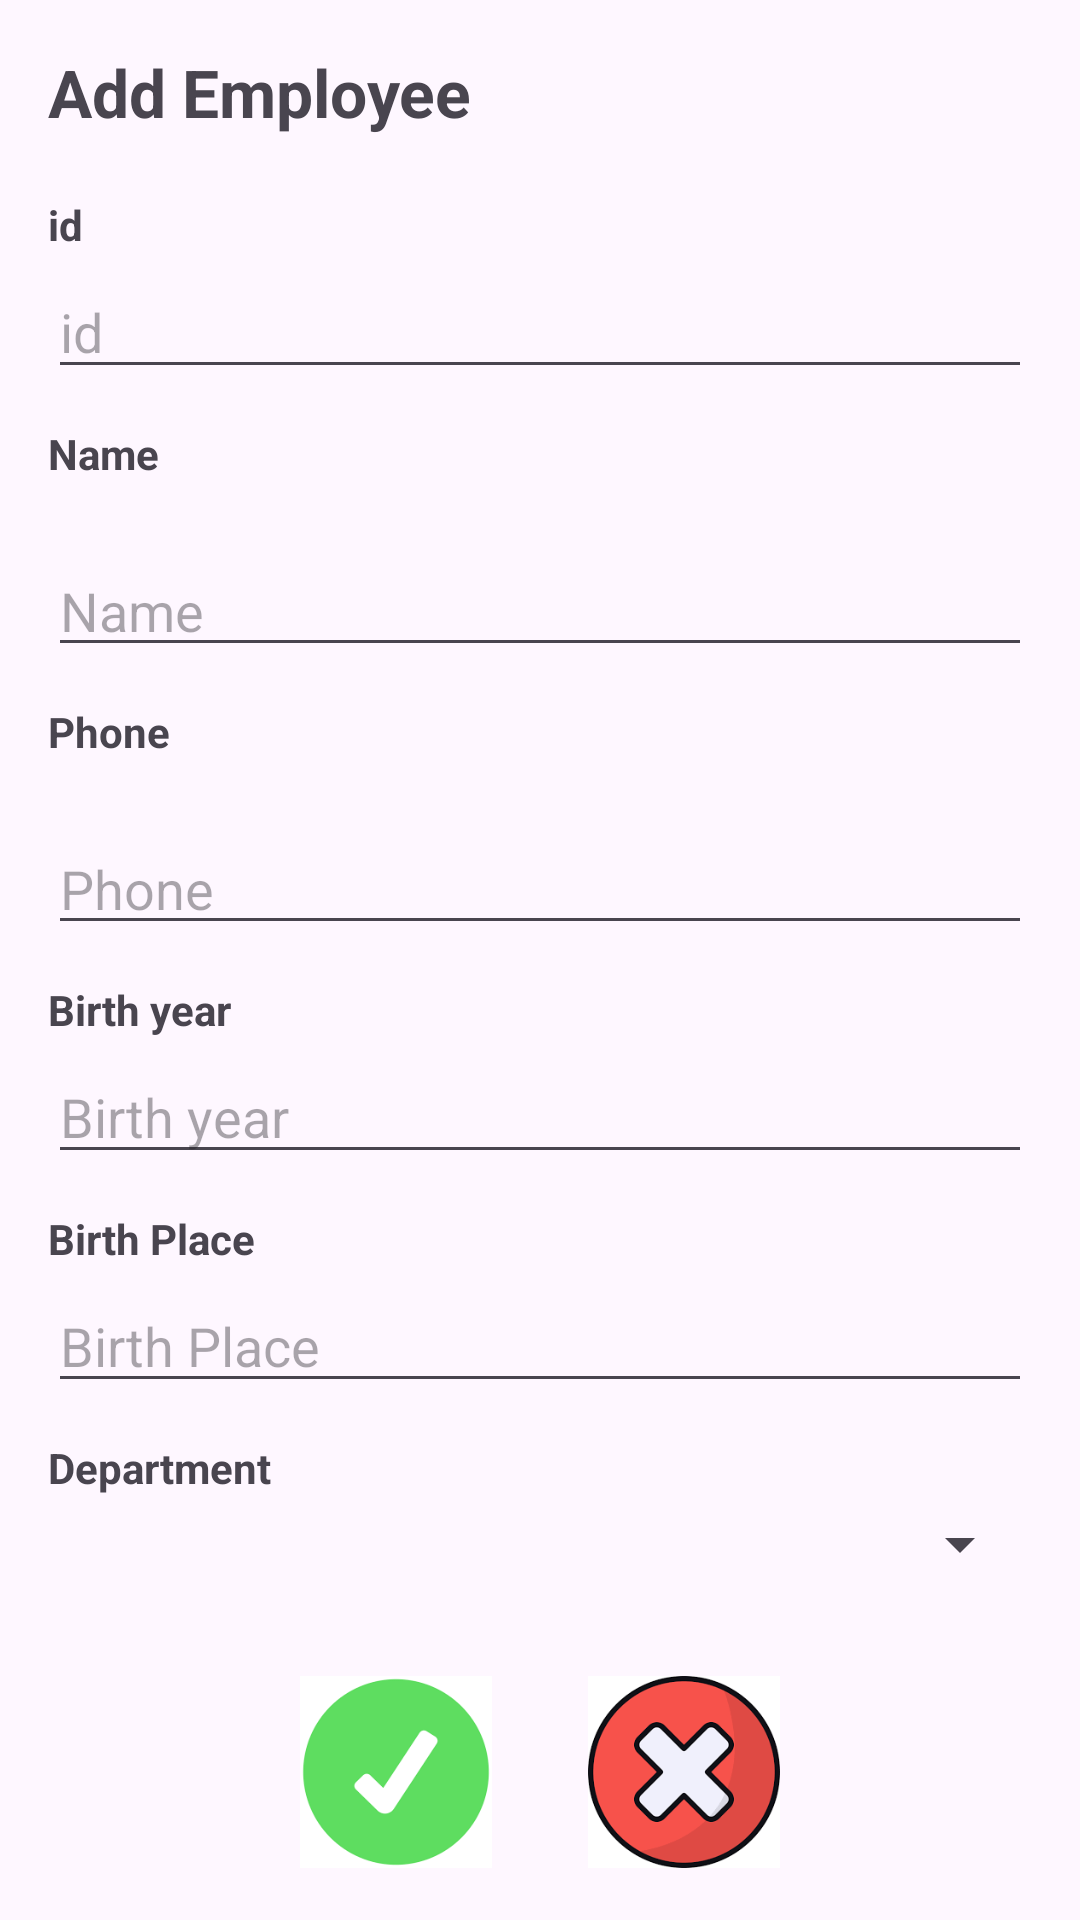

Icon click points for this 1080 × 1920 phone screenshot, format (x=x, y=y):
yes: (x=396, y=1772)
